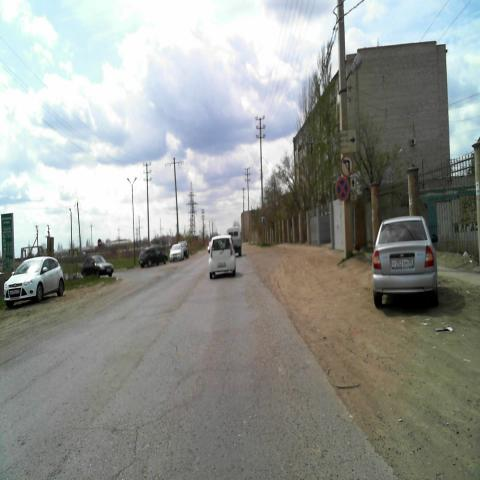3_1: (98, 238, 103, 247)
3_18_2: (340, 154, 353, 176)
3_27: (335, 176, 349, 201)
7_3: (261, 214, 266, 226)
8_2_2: (350, 176, 357, 200)
